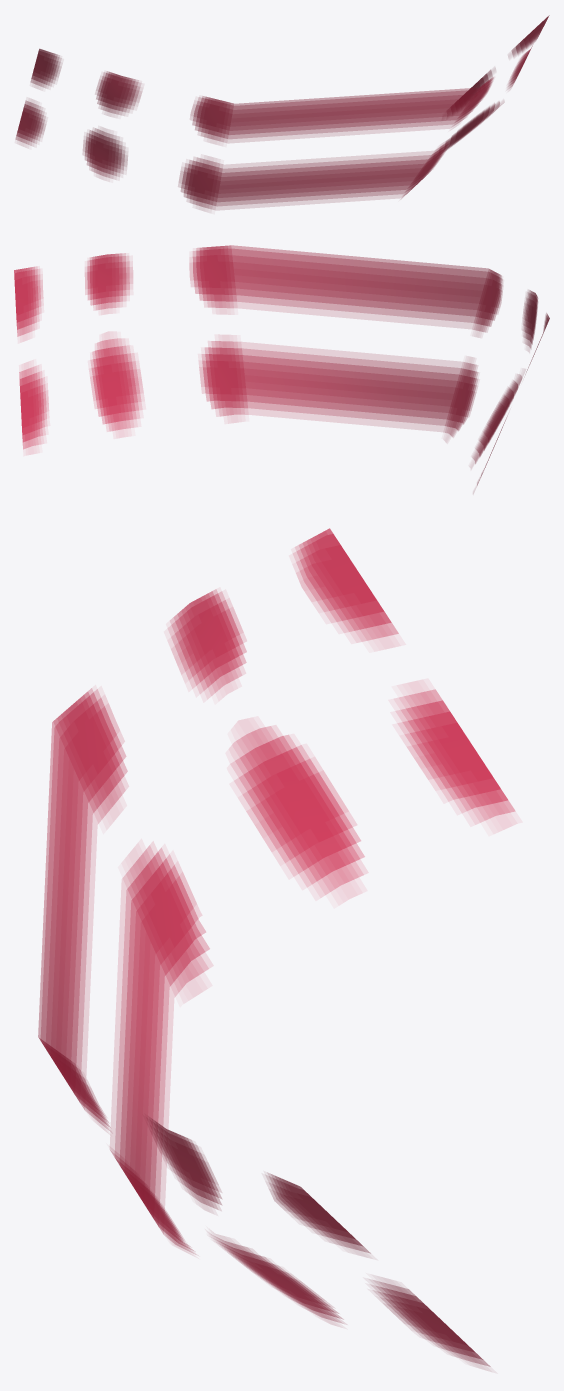
3 renders of one model, top to bottom at view 1: azimuth 30°, elevation 25°; view 2: azimuth 150°, elevation 25°; view 3: azimuth 270°, elevation 25°, orthographic. The views are drawn at different scales.
Visible parts, largest first — view 1: ef_488; view 2: ef_488; view 3: ef_488.
Boxes of the visible parts, x1,y1,x2,y2 form: ef_488: [15, 15, 549, 210]; ef_488: [14, 245, 549, 493]; ef_488: [38, 528, 515, 1370].
Bounding box in the file's own units: 0.604 × 0.2384 × 0.2535.
1 material, 1 textured.
